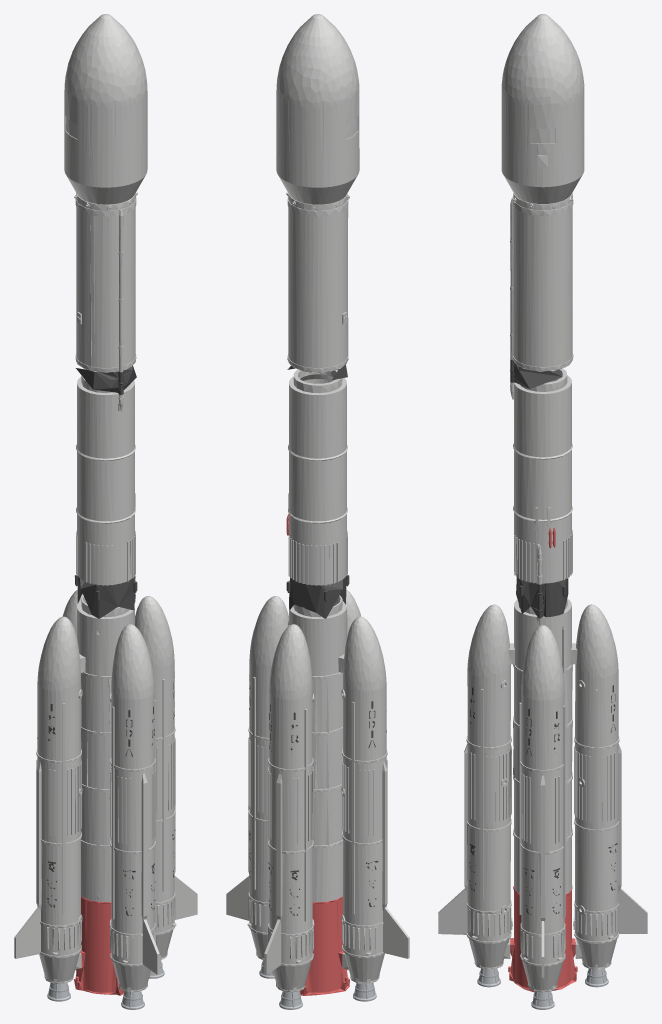
File: india_gslv_mk2.glb
The picture shows the model from 3 angles, left to right: view 1: azimuth 30°, elevation 25°; view 2: azimuth 150°, elevation 25°; view 3: azimuth 270°, elevation 25°; orthographic projection.
Parts seen in each view (by area): view 1: part_0, part_1, part_2, part_3; view 2: part_0, part_2, part_1, part_3; view 3: part_0, part_1, part_2, part_3.
Boxes of the visible parts, left/top/right/bottom form: part_0: left=14, top=14, right=197, bottom=992; part_1: left=37, top=365, right=175, bottom=915; part_2: left=74, top=896, right=124, bottom=995; part_3: left=47, top=960, right=164, bottom=1009; part_0: left=226, top=14, right=409, bottom=992; part_2: left=286, top=513, right=349, bottom=995; part_1: left=249, top=364, right=386, bottom=915; part_3: left=259, top=960, right=376, bottom=1009; part_0: left=438, top=14, right=647, bottom=992; part_1: left=469, top=359, right=617, bottom=914; part_2: left=508, top=527, right=577, bottom=992; part_3: left=477, top=968, right=608, bottom=1009.
Size of the model in its own units: 10.1 by 51.55 by 10.1.
